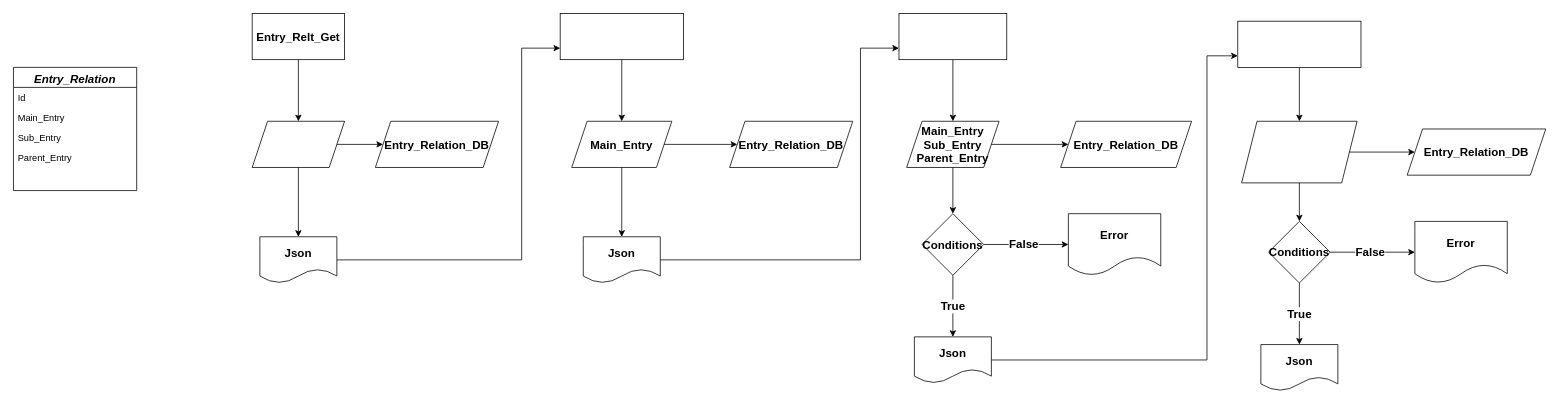
The diagram is 1559 pixels wide and 404 high, and some of its shapes have lost their labels. Here are the shapes that lost their labels. From the top down, the centre of each, then its label:
At point (621, 36): "Entry_Relt_Main_Get".
At point (952, 36): "Entry_Relt_Create".
At point (1299, 43): "Entry_Relt_Update".
At point (298, 144): "Order".
At point (1299, 152): "Main_Entry Sub_Entry Parent_Entry User_Id".
